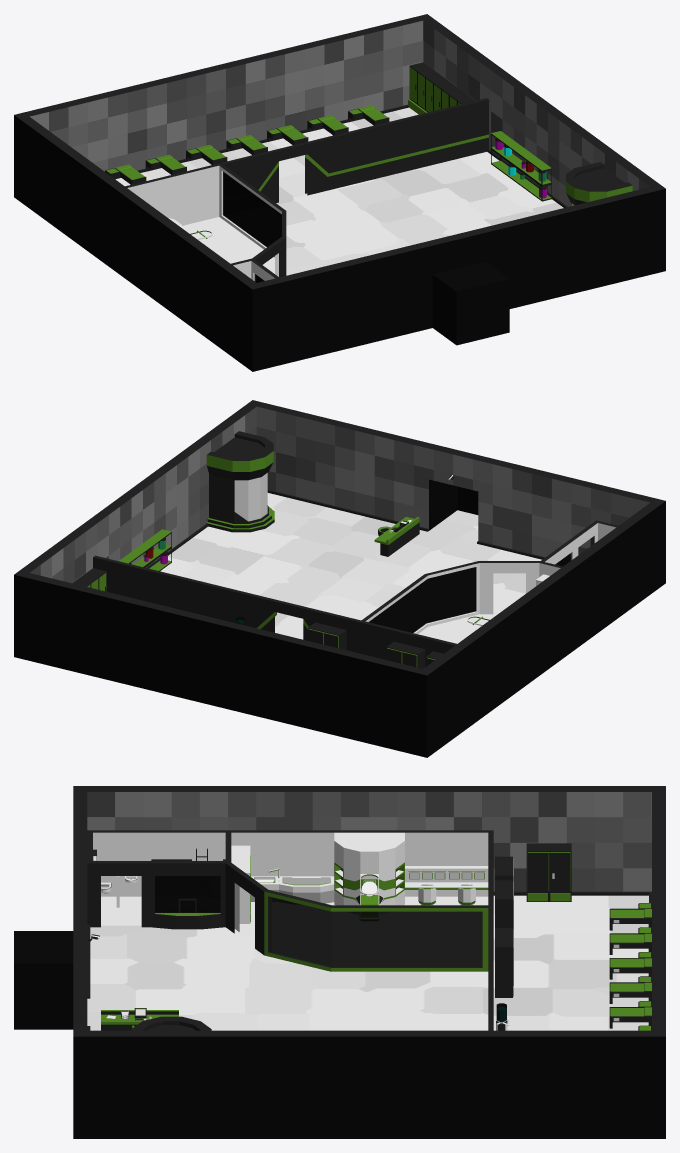
File: Medical_Room_1x1x1.fbx
3 views of the same model, one above another, from view 1: azimuth 30°, elevation 25°; view 2: azimuth 150°, elevation 25°; view 3: azimuth 270°, elevation 25° (orthographic). The views are drawn at different scales.
Visible parts, largest first — view 1: Medical_Room_1x1x1; view 2: Medical_Room_1x1x1; view 3: Medical_Room_1x1x1.
Boxes of the visible parts, x1,y1,x2,y2 form: Medical_Room_1x1x1: [14, 14, 665, 371]; Medical_Room_1x1x1: [14, 400, 665, 757]; Medical_Room_1x1x1: [14, 786, 665, 1138].
Bounding box in the file's own units: 42 × 46.2 × 8.
